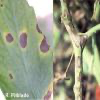Tomato Early blight leaf: (1, 1, 52, 98)
